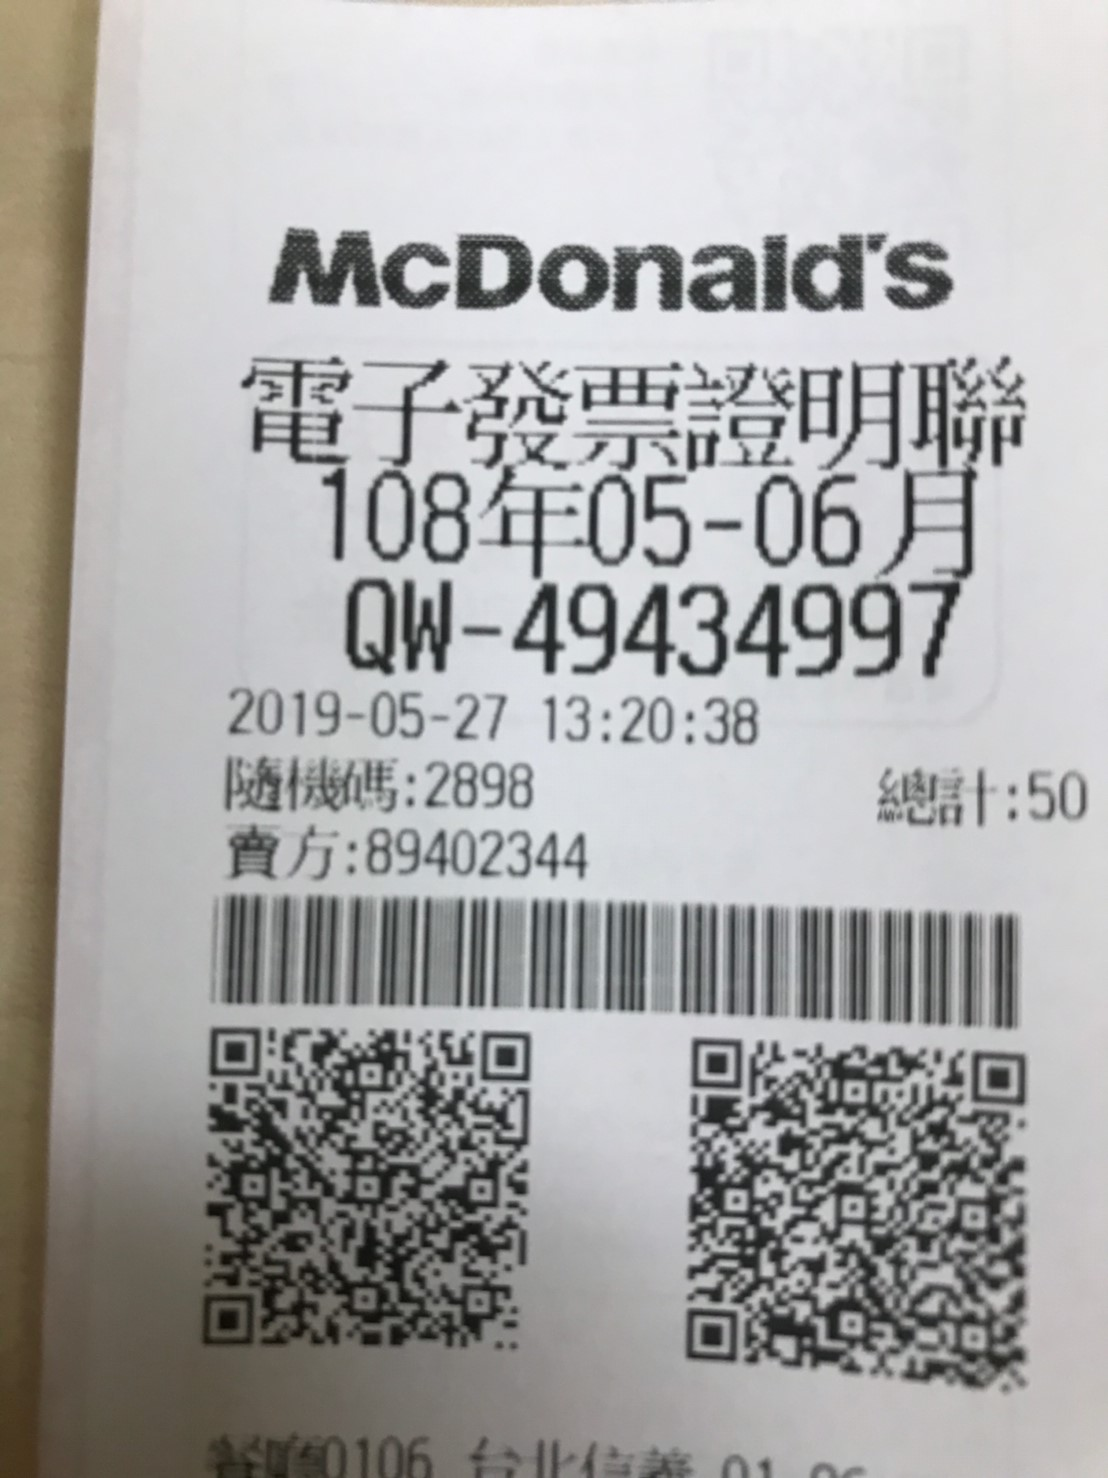Date_New: (318, 463, 981, 585)
Number_New: (510, 580, 963, 684)
